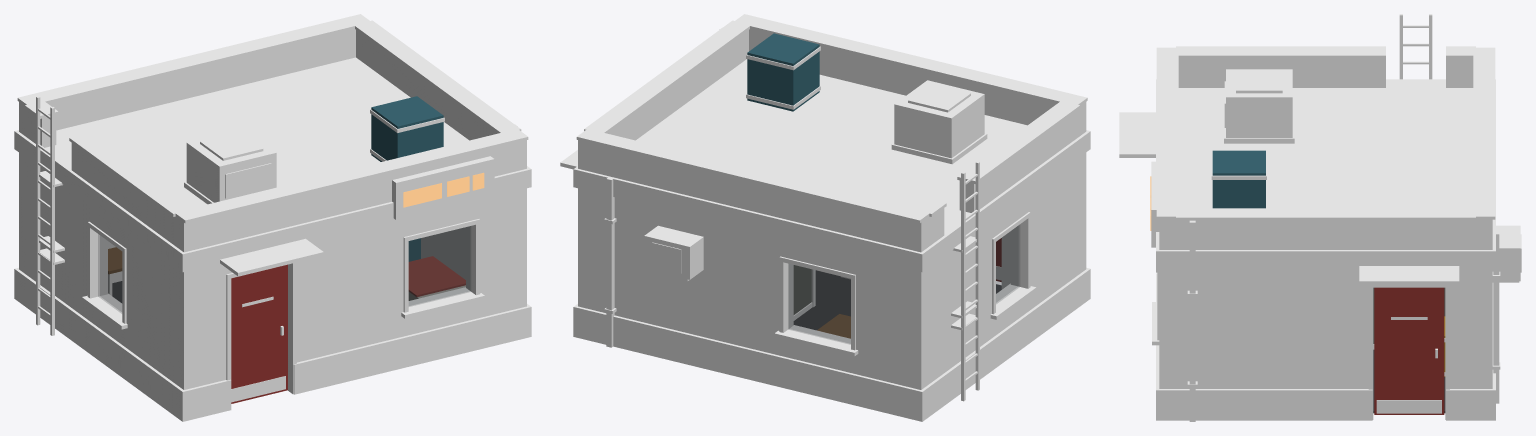
File: house_shack.glb
3 views of the same model, side by side, from view 1: azimuth 30°, elevation 25°; view 2: azimuth 150°, elevation 25°; view 3: azimuth 270°, elevation 25° (orthographic).
Visible parts, largest first — view 1: shack_shutter, shack_concrete_dark, shack_gunmetal, door_0_door_red, shack_dark, shack_pane, shack_paint_teal, shack_titan, shack_cloth, shack_win_warm, door_0_gunmetal; view 2: shack_shutter, shack_concrete_dark, shack_gunmetal, shack_titan, shack_pane, shack_paint_teal, shack_dark, shack_floor, shack_plaster, shack_wood; view 3: shack_shutter, shack_concrete_dark, shack_gunmetal, door_1_door_red, shack_titan, shack_paint_teal, shack_dark, door_1_gunmetal.
Boxes of the visible parts, x1,y1,x2,y2 form: shack_shutter: [19, 29, 526, 389]; shack_concrete_dark: [14, 57, 531, 421]; shack_gunmetal: [17, 14, 528, 394]; door_0_door_red: [231, 264, 287, 403]; shack_dark: [200, 109, 494, 219]; shack_pane: [98, 226, 470, 313]; shack_paint_teal: [371, 96, 443, 261]; shack_titan: [186, 128, 276, 202]; shack_cloth: [408, 256, 465, 296]; shack_win_warm: [403, 172, 484, 207]; door_0_gunmetal: [231, 296, 285, 402]; shack_shutter: [578, 29, 1086, 389]; shack_concrete_dark: [573, 59, 1090, 421]; shack_gunmetal: [560, 14, 1087, 401]; shack_titan: [644, 80, 984, 279]; shack_pane: [788, 225, 1019, 344]; shack_paint_teal: [747, 33, 819, 111]; shack_dark: [604, 46, 970, 320]; shack_floor: [793, 270, 1001, 330]; shack_plaster: [793, 265, 811, 314]; shack_wood: [817, 314, 850, 338]; shack_shutter: [1159, 58, 1492, 388]; shack_concrete_dark: [1156, 79, 1495, 420]; shack_gunmetal: [1119, 14, 1519, 421]; door_1_door_red: [1374, 287, 1444, 414]; shack_titan: [1226, 69, 1520, 281]; shack_paint_teal: [1212, 150, 1265, 208]; shack_dark: [1151, 71, 1521, 387]; door_1_gunmetal: [1376, 317, 1441, 413].
Bounding box in the file's own units: 6.83 × 3.82 × 6.04.
